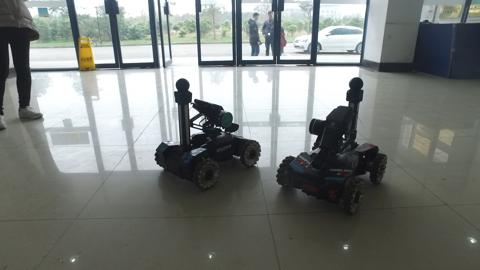chariot: (276, 73, 392, 224), (147, 71, 269, 194)
